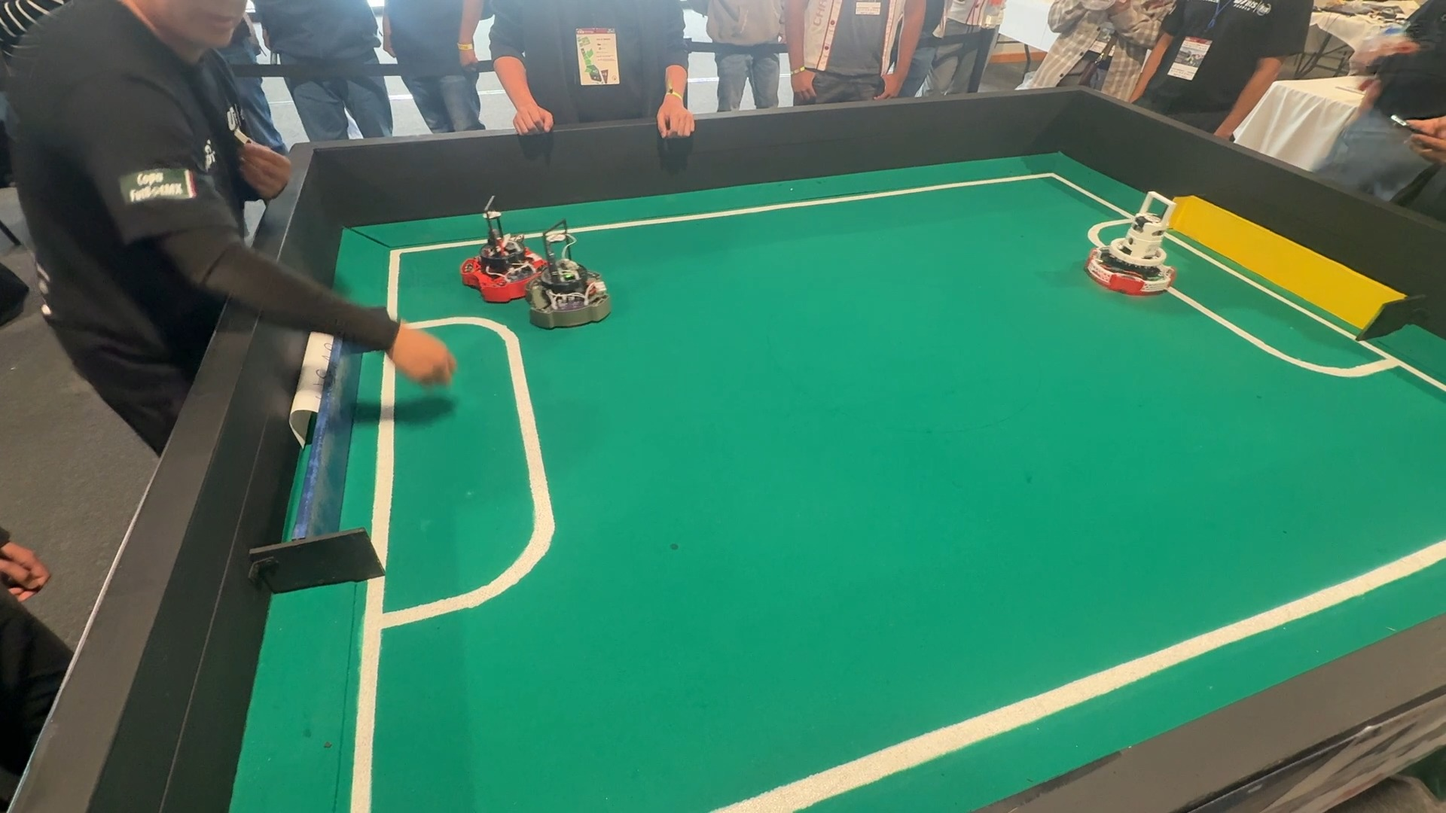Robot: (1068, 188, 1207, 307), (529, 230, 620, 335), (457, 198, 543, 296)
